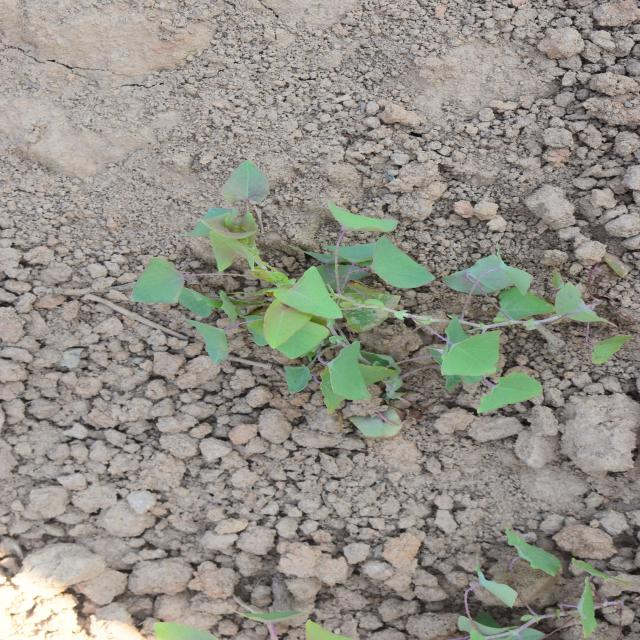Asiatic_Smartweed: (242, 424, 386, 598), (317, 260, 429, 427), (269, 126, 400, 264), (373, 188, 481, 296), (241, 268, 318, 381)
